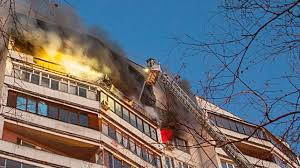fire: (24, 31, 151, 103)
